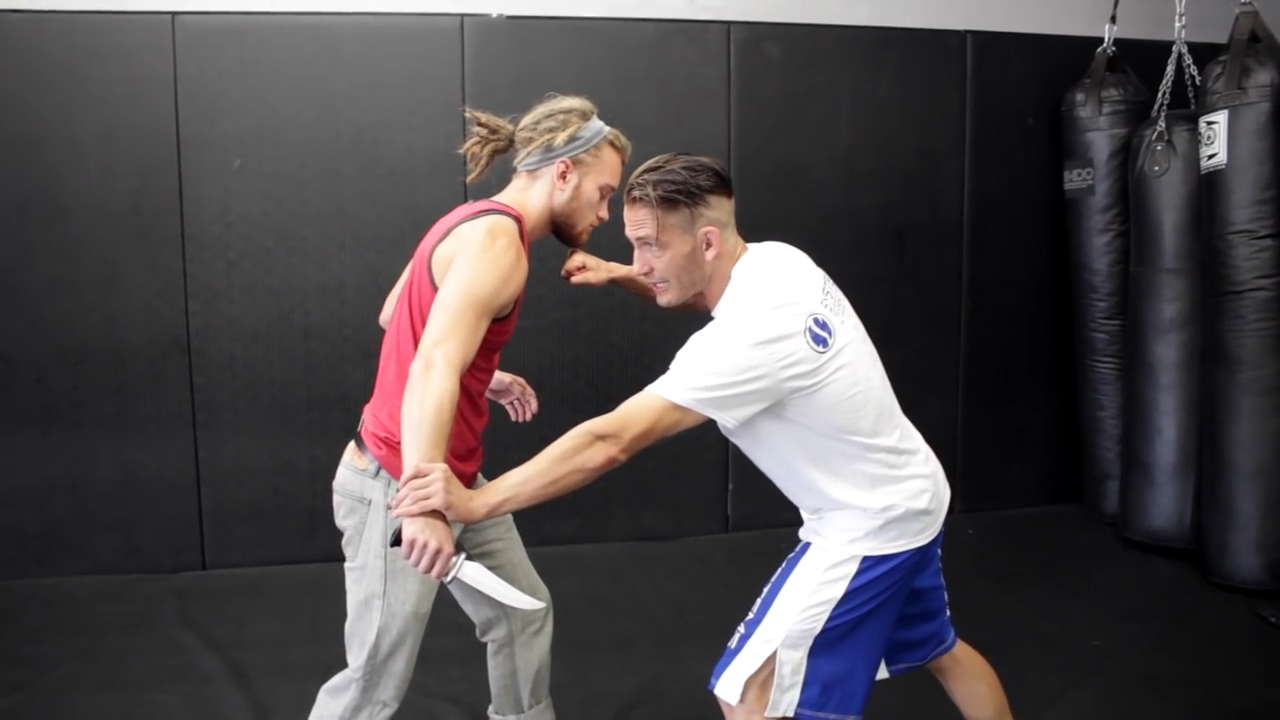knife: (383, 517, 554, 623)
